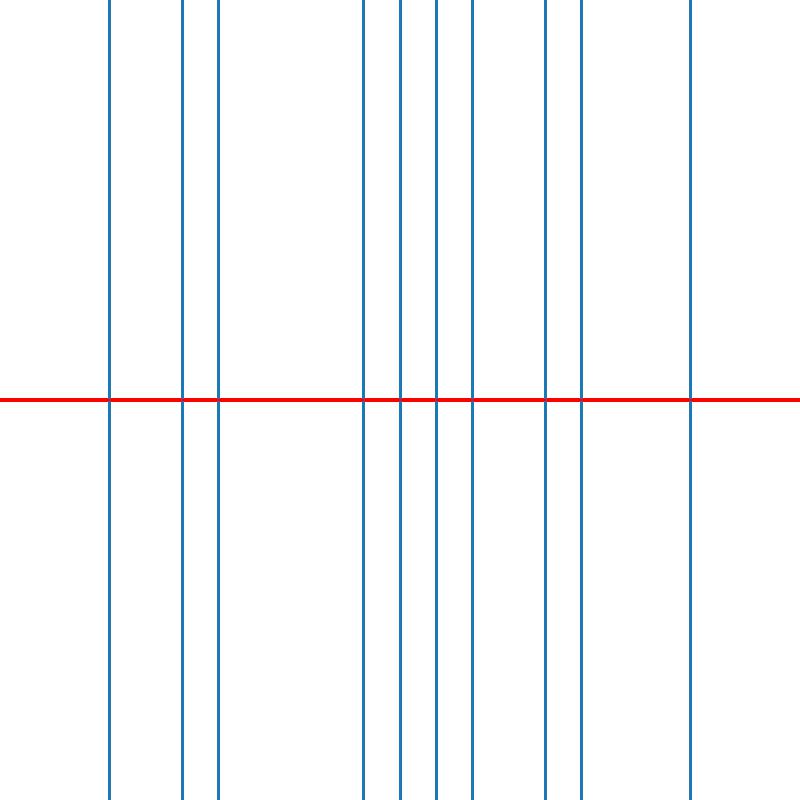root: (432, 396, 440, 404), (541, 396, 549, 404), (214, 396, 221, 404), (178, 396, 185, 404), (687, 396, 694, 404), (396, 396, 403, 404), (360, 396, 367, 404), (578, 396, 585, 404), (105, 396, 112, 404), (469, 396, 476, 404)
